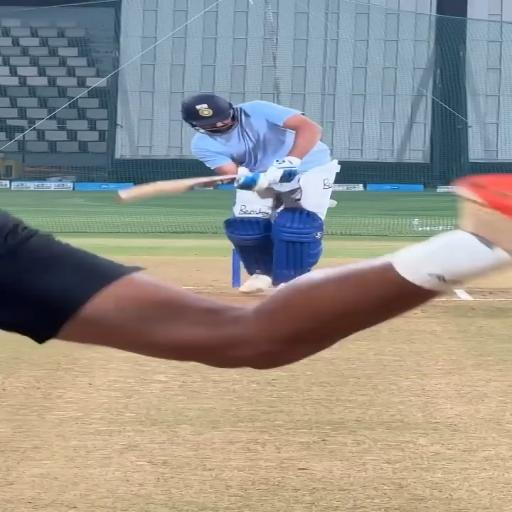Cricket bat: (118, 174, 235, 202)
